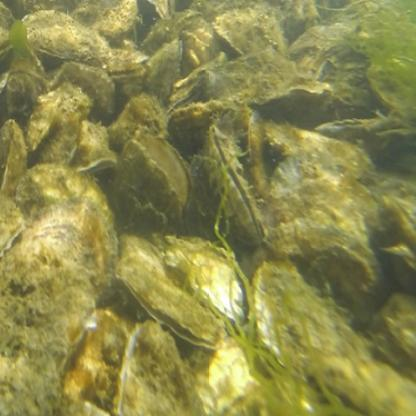3: (118, 236, 227, 353), (206, 126, 265, 244), (25, 10, 111, 65), (139, 135, 193, 212), (77, 123, 120, 174), (166, 76, 211, 117), (315, 117, 407, 137), (386, 200, 416, 250), (110, 65, 147, 83)
Oyster-Closed: (55, 311, 128, 416), (112, 140, 186, 234), (169, 103, 243, 159), (68, 0, 141, 39), (6, 69, 49, 134), (144, 40, 184, 108), (212, 11, 266, 57), (0, 120, 29, 197), (248, 111, 269, 202), (0, 190, 23, 258)
Oyster-Open: (0, 164, 119, 416), (256, 265, 376, 367), (263, 223, 381, 311), (270, 155, 373, 250), (117, 321, 208, 416), (26, 84, 91, 164), (50, 62, 118, 124), (386, 292, 416, 348)
